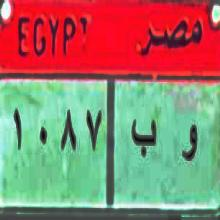0: (38, 120, 48, 148)
1: (11, 104, 25, 156)
7: (86, 106, 103, 155)
8: (59, 108, 79, 155)
baa: (131, 115, 158, 165)
waw: (178, 118, 200, 170)
